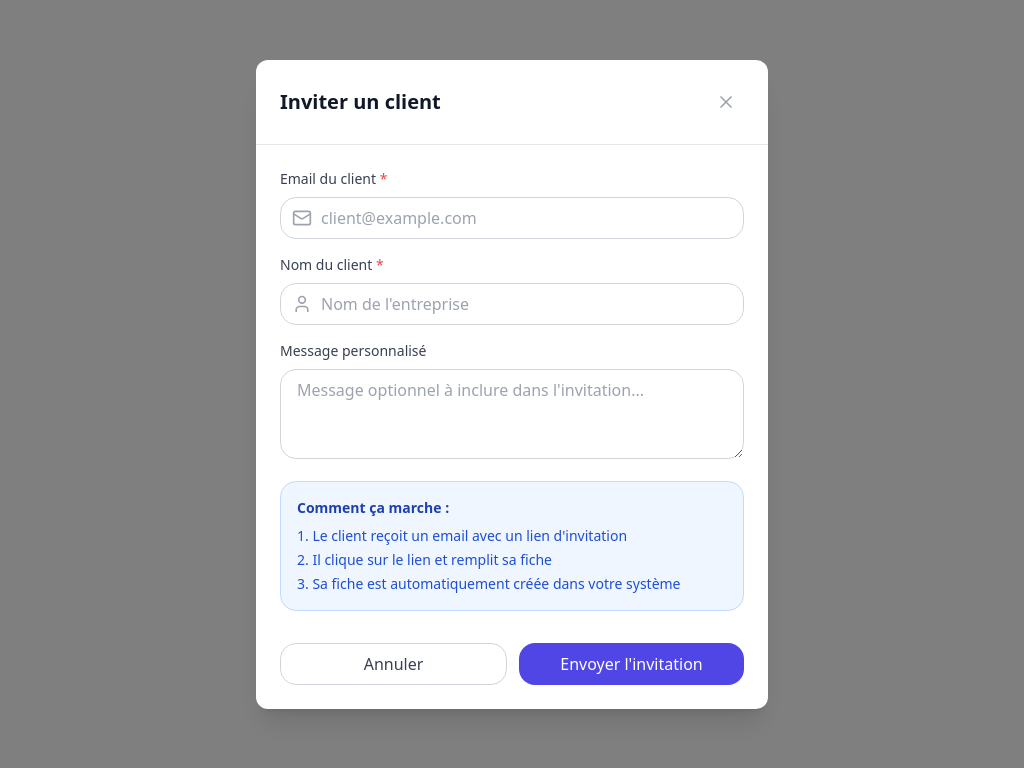
Test: ClientInvitationModal › should display success message after invitation sent
This screenshot has width=1024, height=768.
Type "test@example.com" into the field with placeholder "client@example.com" at (512,218), box [280,196,744,238]
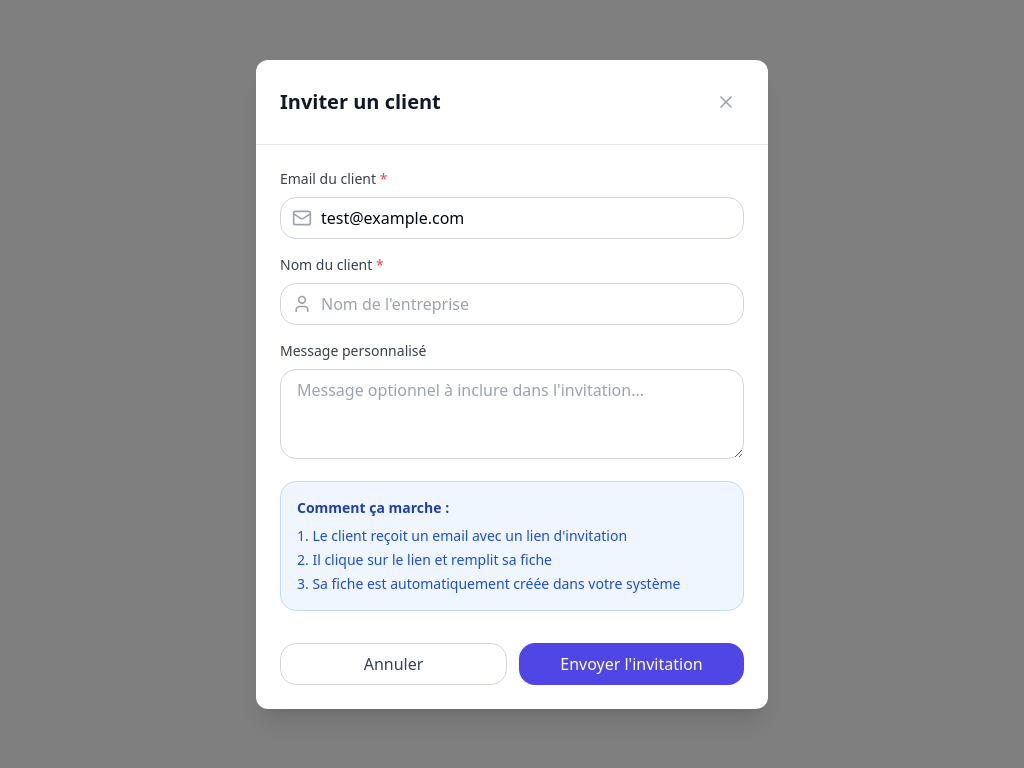
Type "Test Company" into the field with placeholder "Nom de l'entreprise" at (512,304), box [280,282,744,324]
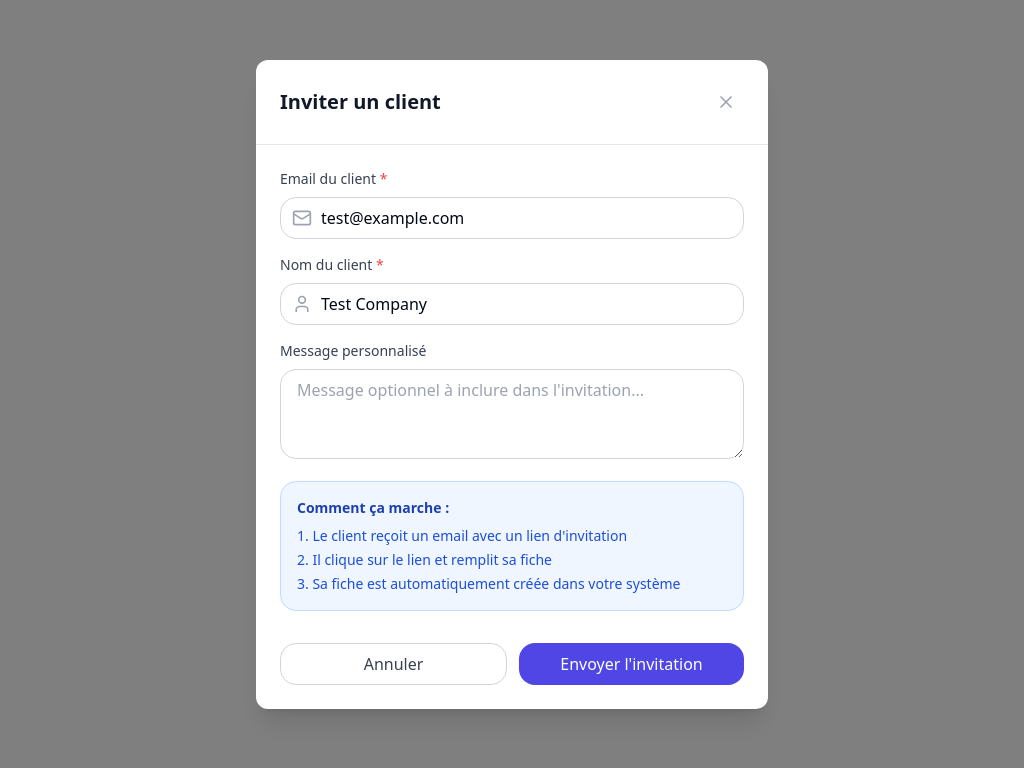
Click the button "Envoyer l'invitation" at (632,664), box [519,642,744,684]
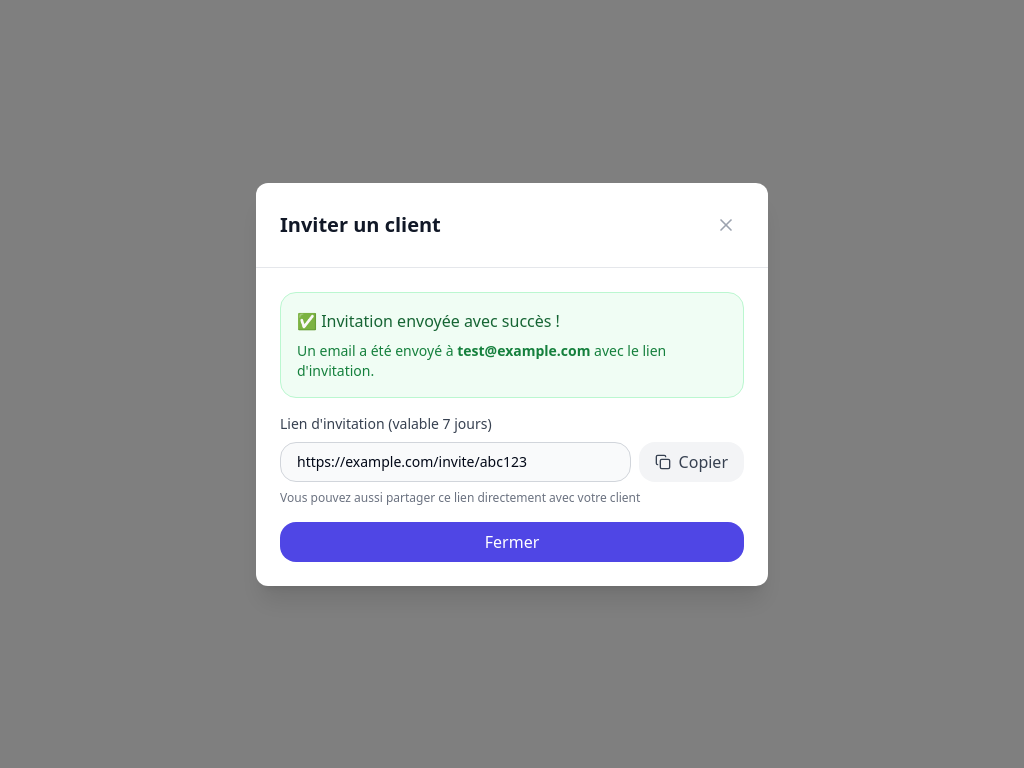
Check: the text "✅ Invitation envoyée avec succès !" is shown, box [297,310,560,332]
Check: the text "test@example.com" is shown, box [457,340,590,360]
